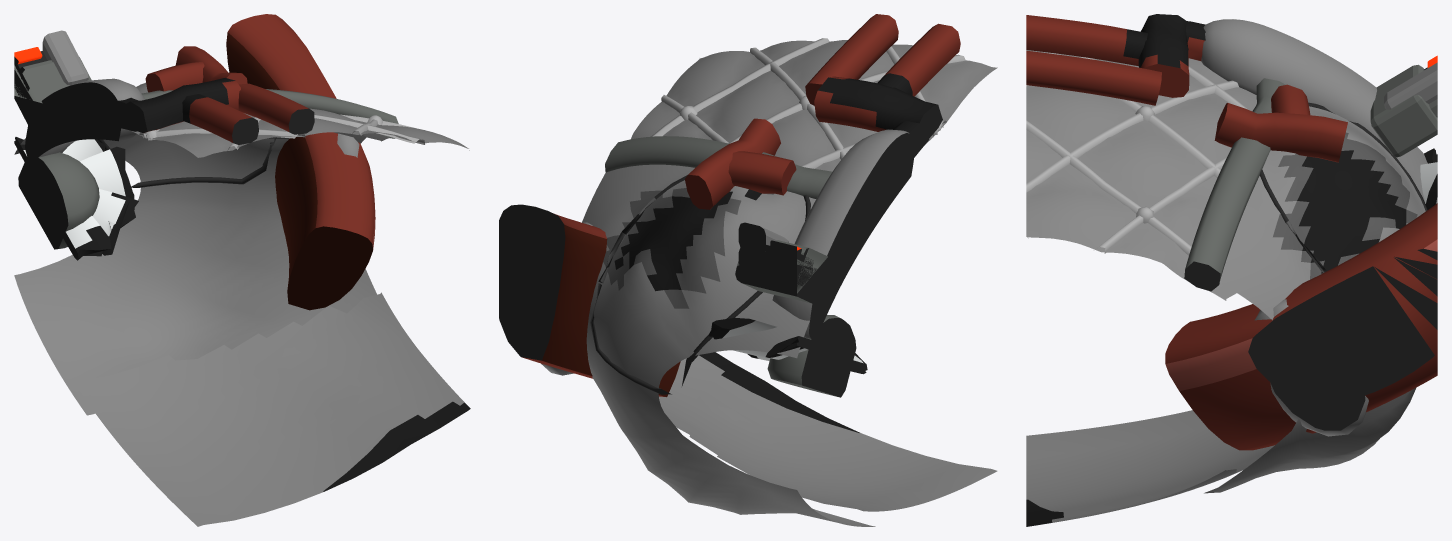
Rendered from zeppelin_51.glb.
3 renders of one model, left to right at view 1: azimuth 30°, elevation 25°; view 2: azimuth 150°, elevation 25°; view 3: azimuth 270°, elevation 25°, orthographic. The views are drawn at different scales.
Parts seen in each view (by area): view 1: envelope.001, cowl.001, duct.001, hub_fairing.001, fan_hub.001, gate_bar.001, gate_leg_in_r.001, gate_leg_out_r.001, cowl_rim.001, bridge_foot.001, net_ropes.001, blade_stub_0.001 (+8 smaller); view 2: cowl.001, envelope.001, duct.001, hub_fairing.001, gate_bar.001, cowl_rim.001, fan_hub.001, net_ropes.001, bracket_r.001, gate_leg_out_r.001, gate_leg_in_r.001, bridge_foot.001 (+7 smaller); view 3: envelope.001, duct.001, cowl.001, hub_fairing.001, cowl_rim.001, duct_boot_r.001, net_ropes.001, bracket_r.001, gate_leg_out_r.001, gate_leg_in_r.001, bridge_foot.001, gate_bar.001 (+5 smaller).
Boxes of the visible parts, x1=… form: envelope.001: x1=75, y1=108, x2=470, y2=526; cowl.001: x1=14, y1=82, x2=376, y2=415; duct.001: x1=226, y1=14, x2=375, y2=310; hub_fairing.001: x1=25, y1=78, x2=144, y2=158; fan_hub.001: x1=18, y1=152, x2=99, y2=249; gate_bar.001: x1=126, y1=78, x2=240, y2=133; gate_leg_in_r.001: x1=182, y1=94, x2=258, y2=144; gate_leg_out_r.001: x1=238, y1=83, x2=314, y2=134; cowl_rim.001: x1=79, y1=89, x2=398, y2=138; bridge_foot.001: x1=14, y1=57, x2=91, y2=130; net_ropes.001: x1=139, y1=114, x2=469, y2=151; blade_stub_0.001: x1=80, y1=146, x2=134, y2=209; cowl.001: x1=582, y1=164, x2=875, y2=526; envelope.001: x1=631, y1=40, x2=997, y2=511; duct.001: x1=499, y1=204, x2=680, y2=397; hub_fairing.001: x1=772, y1=129, x2=914, y2=343; gate_bar.001: x1=814, y1=76, x2=942, y2=143; cowl_rim.001: x1=605, y1=136, x2=881, y2=214; fan_hub.001: x1=767, y1=315, x2=856, y2=397; net_ropes.001: x1=651, y1=38, x2=965, y2=168; bracket_r.001: x1=685, y1=118, x2=780, y2=209; gate_leg_out_r.001: x1=805, y1=14, x2=898, y2=105; gate_leg_in_r.001: x1=877, y1=23, x2=960, y2=96; bridge_foot.001: x1=735, y1=240, x2=829, y2=303; envelope.001: x1=1026, y1=50, x2=1274, y2=526; duct.001: x1=1165, y1=203, x2=1437, y2=450; cowl.001: x1=1204, y1=106, x2=1437, y2=493; hub_fairing.001: x1=1201, y1=19, x2=1382, y2=141; cowl_rim.001: x1=1184, y1=78, x2=1285, y2=291; duct_boot_r.001: x1=1254, y1=299, x2=1368, y2=436; net_ropes.001: x1=1026, y1=51, x2=1248, y2=255; bracket_r.001: x1=1214, y1=103, x2=1347, y2=162; gate_leg_out_r.001: x1=1026, y1=50, x2=1161, y2=105; gate_leg_in_r.001: x1=1026, y1=15, x2=1147, y2=66; bridge_foot.001: x1=1370, y1=64, x2=1437, y2=157; gate_bar.001: x1=1138, y1=14, x2=1189, y2=97.
Size of the model in its own units: 24 by 33.56 by 28.
